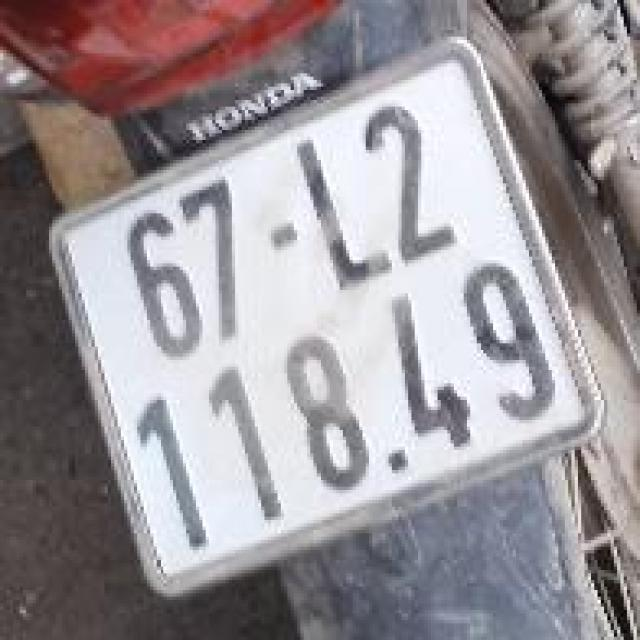1: (189, 350, 298, 533), (126, 378, 229, 561)
2: (345, 83, 477, 278)
4: (369, 272, 490, 469)
6: (111, 191, 220, 369)
7: (169, 167, 263, 352)
8: (269, 319, 385, 507)
9: (445, 244, 573, 443)
L: (278, 117, 403, 306)
